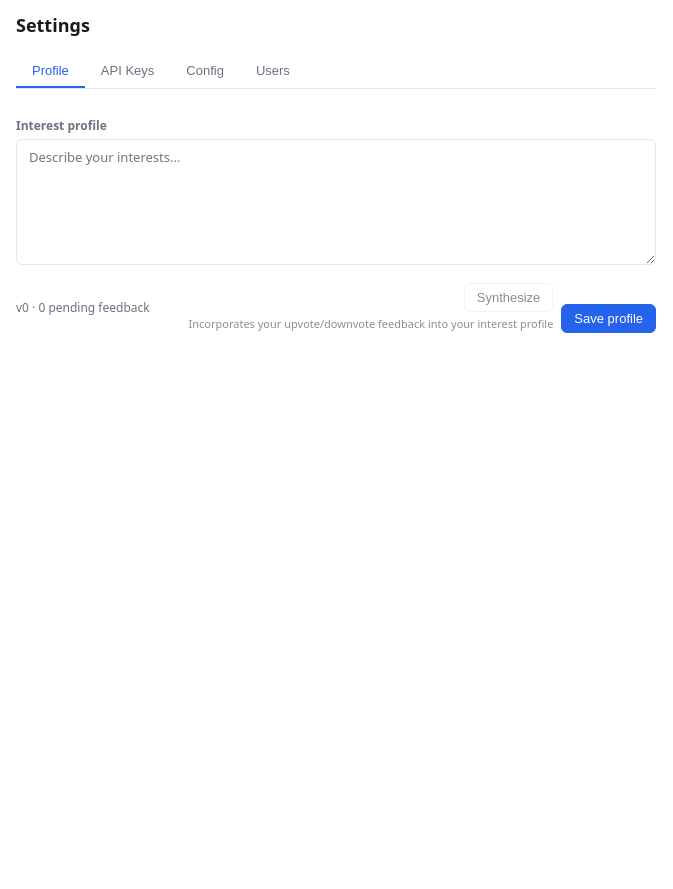
Test: SettingsView — config tab › conditional visibility › shows trusted_proxy_ip field when header method IS enabled
Click the button with class "tab" showing "Config": (205, 72) [170,55,240,88]
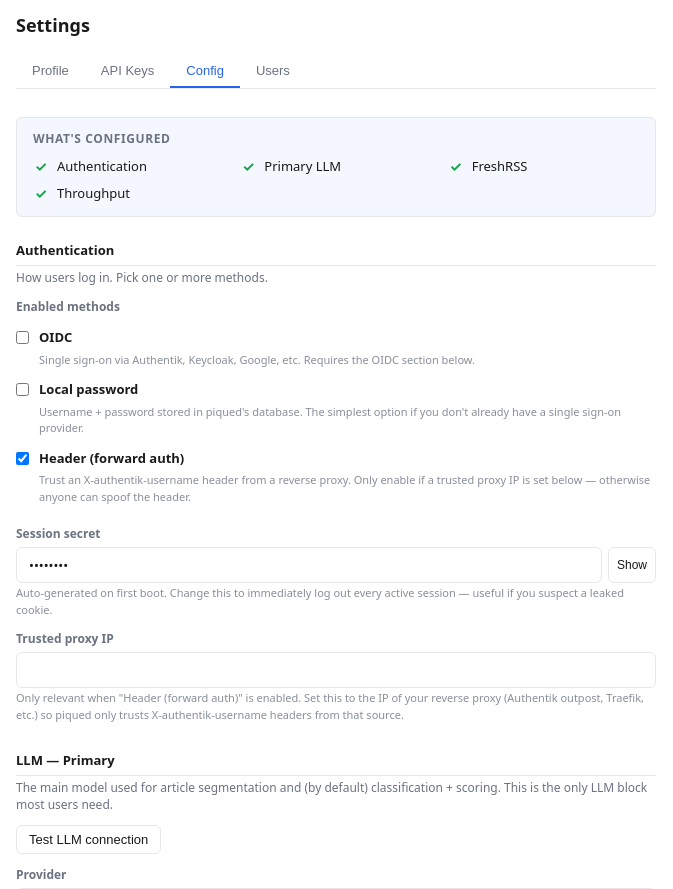
Result: the field with id "config-trusted_proxy_ip" is shown at [16,652,656,688]
